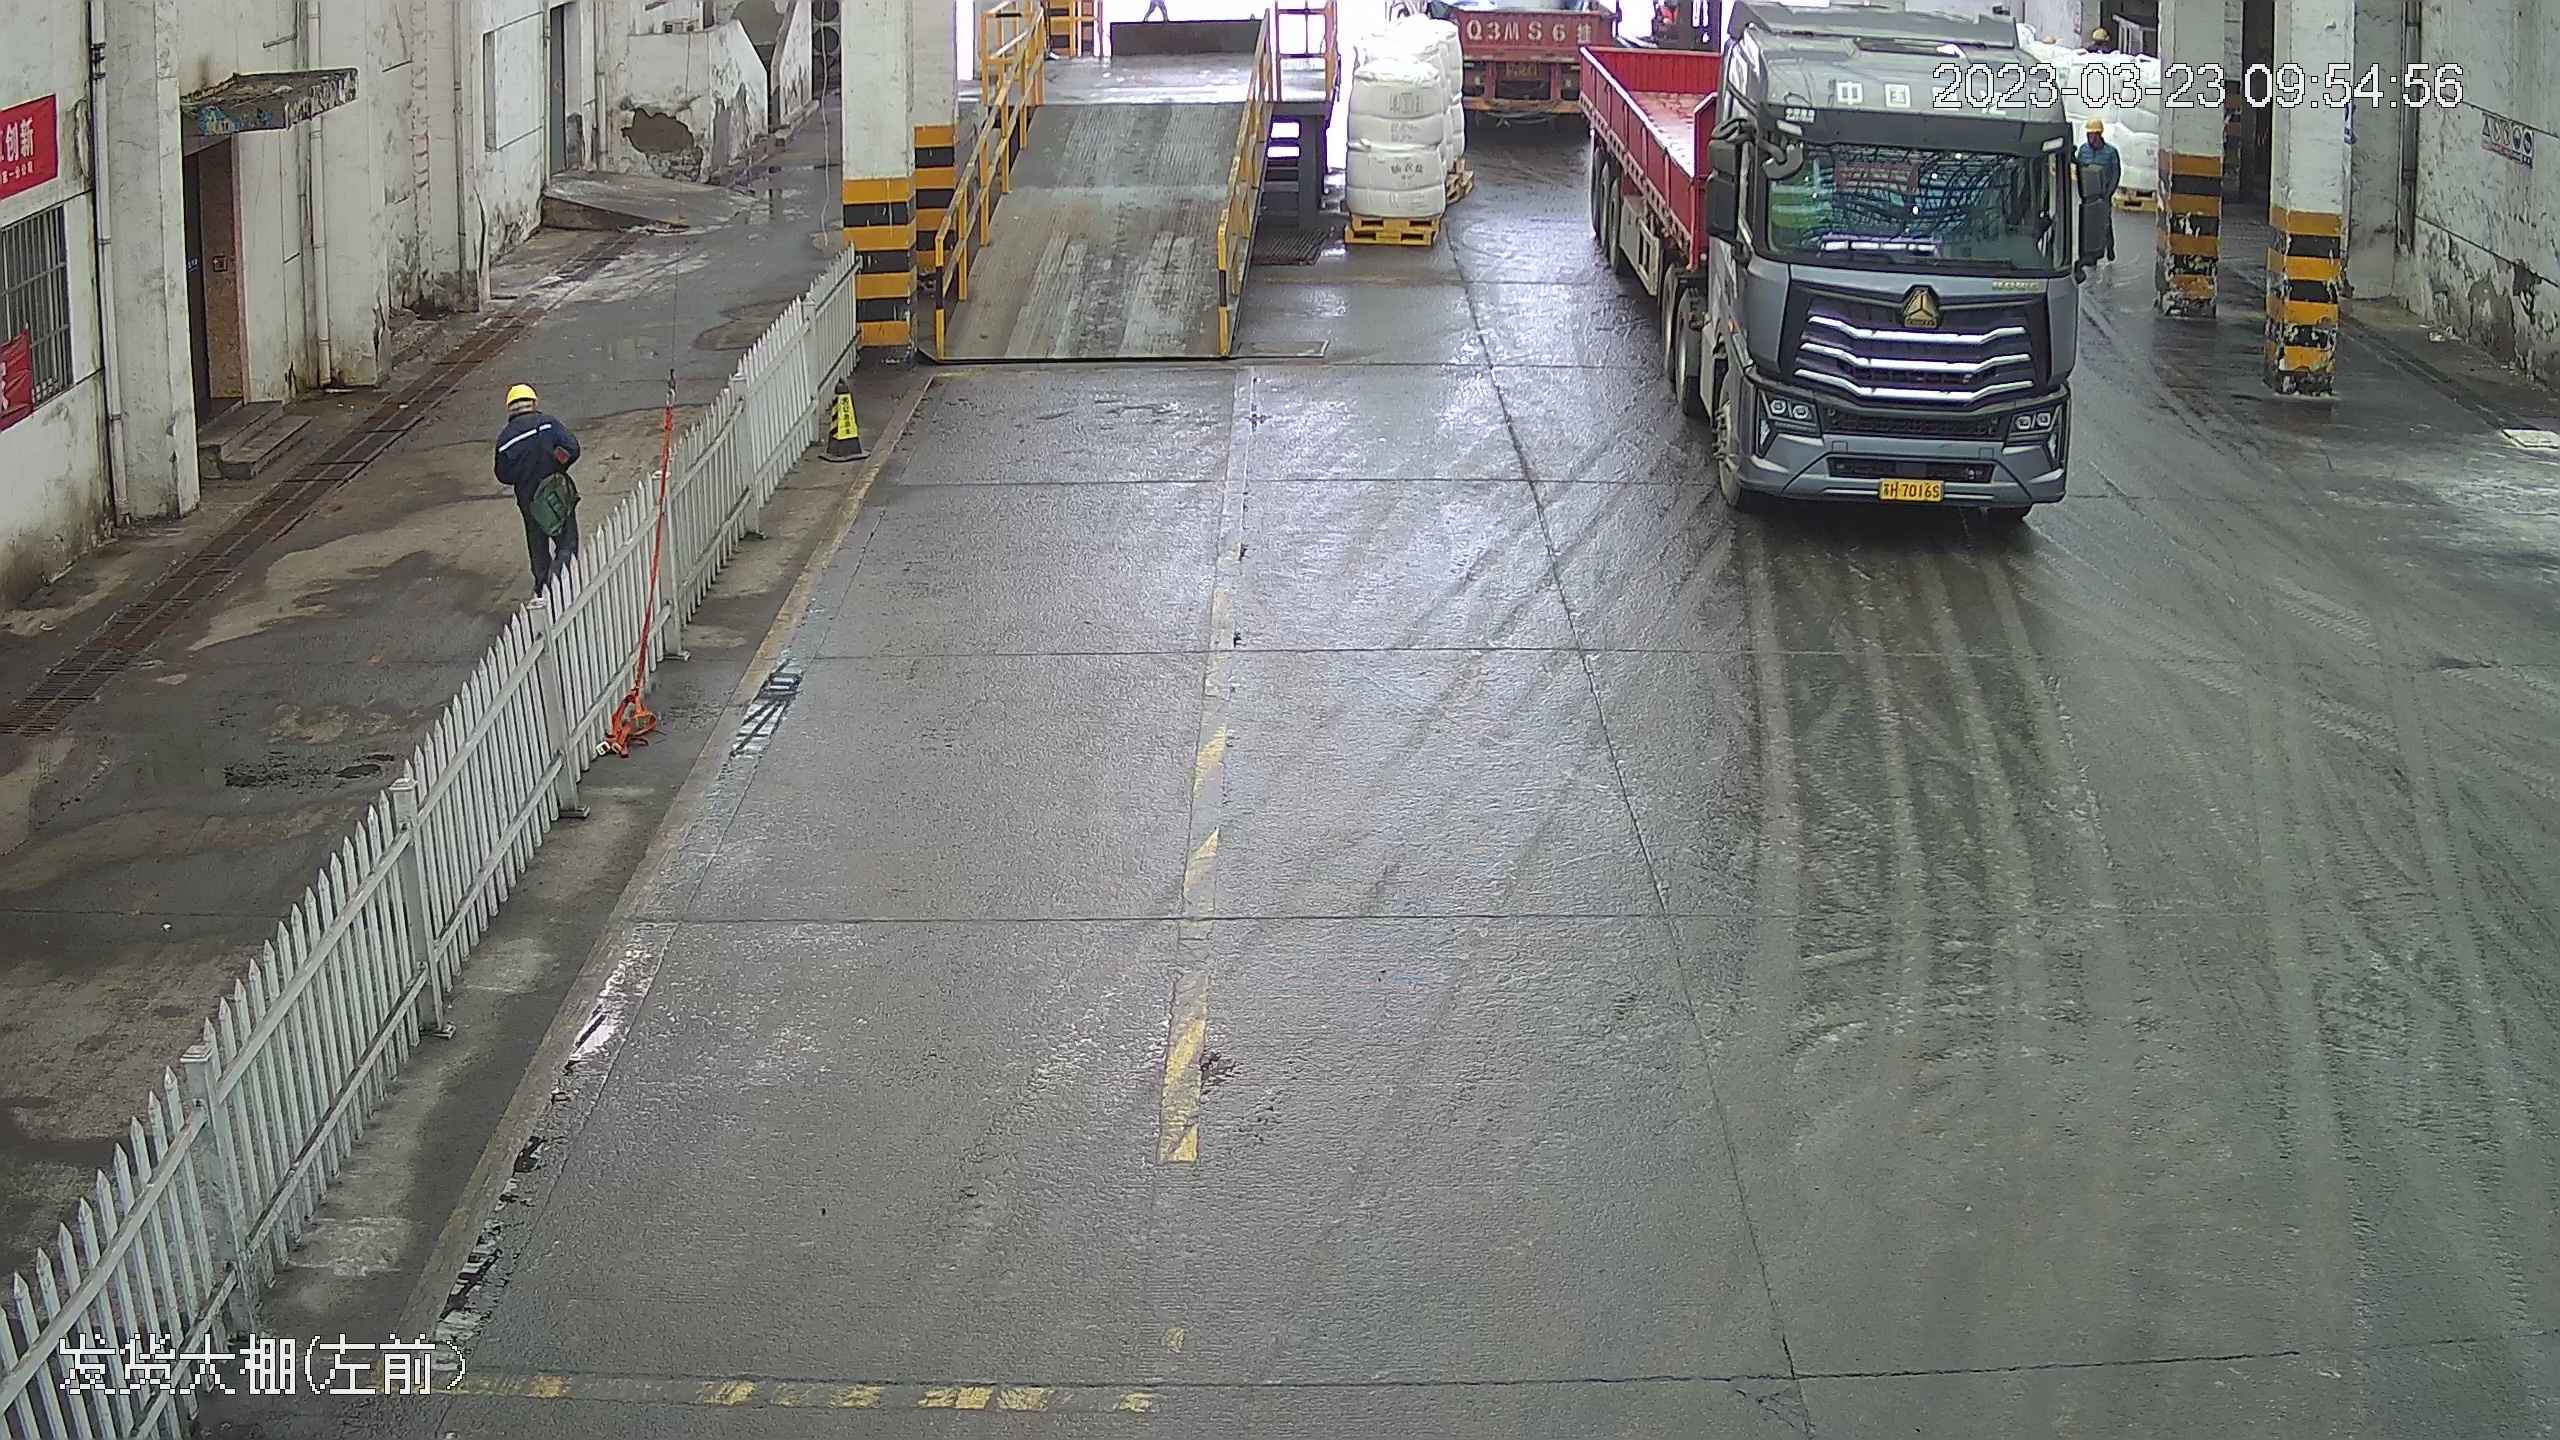head: (496, 379, 564, 450), (2077, 116, 2119, 163)
helmet: (501, 380, 539, 406), (2084, 117, 2108, 134)
people: (490, 376, 582, 603), (2069, 115, 2121, 280)
truck: (1579, 1, 2105, 530), (1445, 5, 1606, 124)
